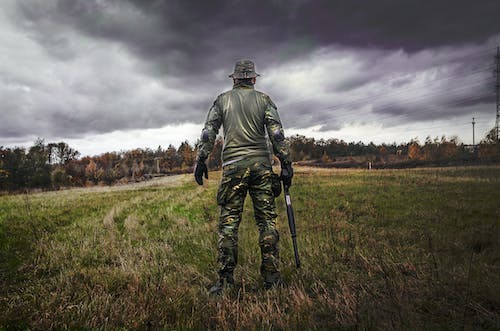gun: (279, 168, 302, 269)
